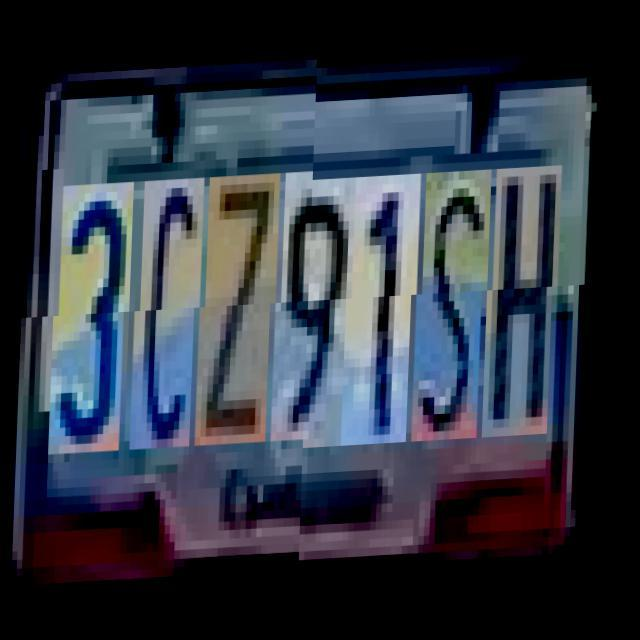1: (350, 179, 423, 450)
3: (58, 192, 136, 463)
9: (280, 182, 358, 453)
C: (138, 189, 206, 460)
H: (491, 172, 564, 444)
S: (421, 176, 494, 447)
Z: (204, 186, 282, 457)
